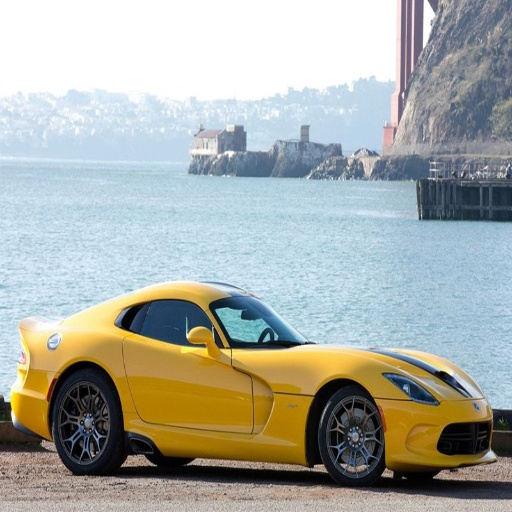front_bumper: (382, 392, 488, 466)
front_glass: (220, 292, 298, 344)
front_right_door: (177, 300, 302, 438)
